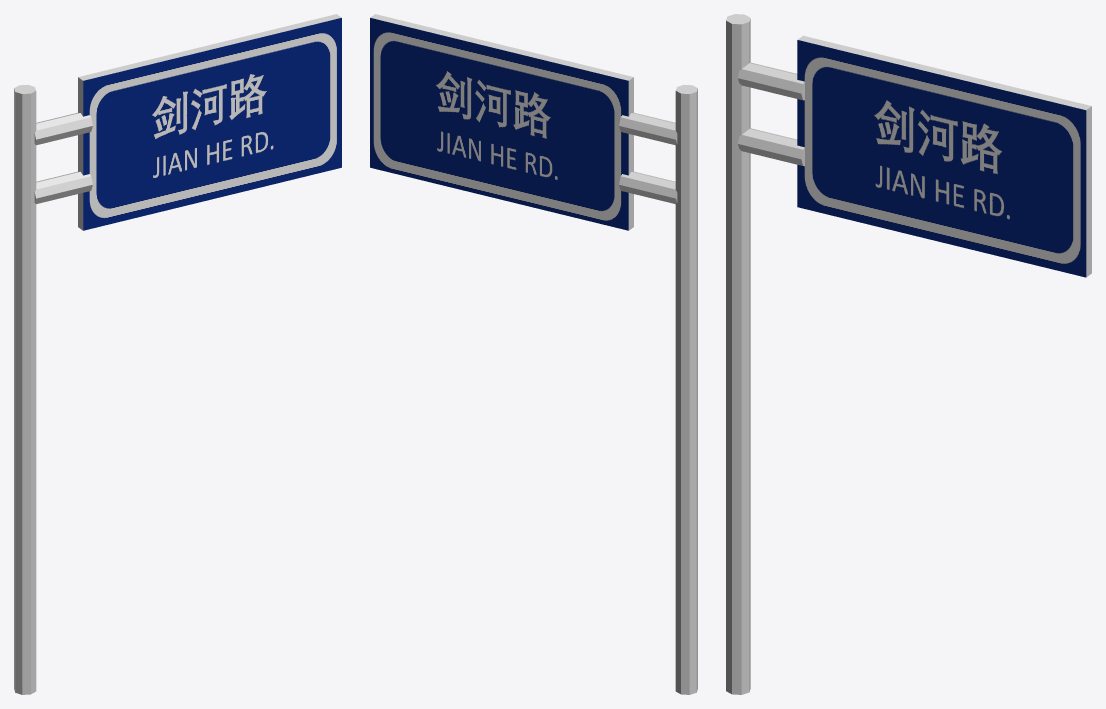
File: lupai.glb
The picture shows the model from 3 angles, left to right: view 1: azimuth 30°, elevation 25°; view 2: azimuth 150°, elevation 25°; view 3: azimuth 330°, elevation 25°; orthographic projection. The views are drawn at different scales.
Visible parts, largest first — view 1: Cube.003; view 2: Cube.003; view 3: Cube.003.
Part boxes in pixels (left/top/right/bottom): Cube.003: left=14, top=14, right=341, bottom=694; Cube.003: left=370, top=14, right=697, bottom=694; Cube.003: left=726, top=14, right=1091, bottom=694.
Size of the model in its own units: 1.87 by 3.32 by 0.1145.
Materials: 2 (1 with a texture image).
